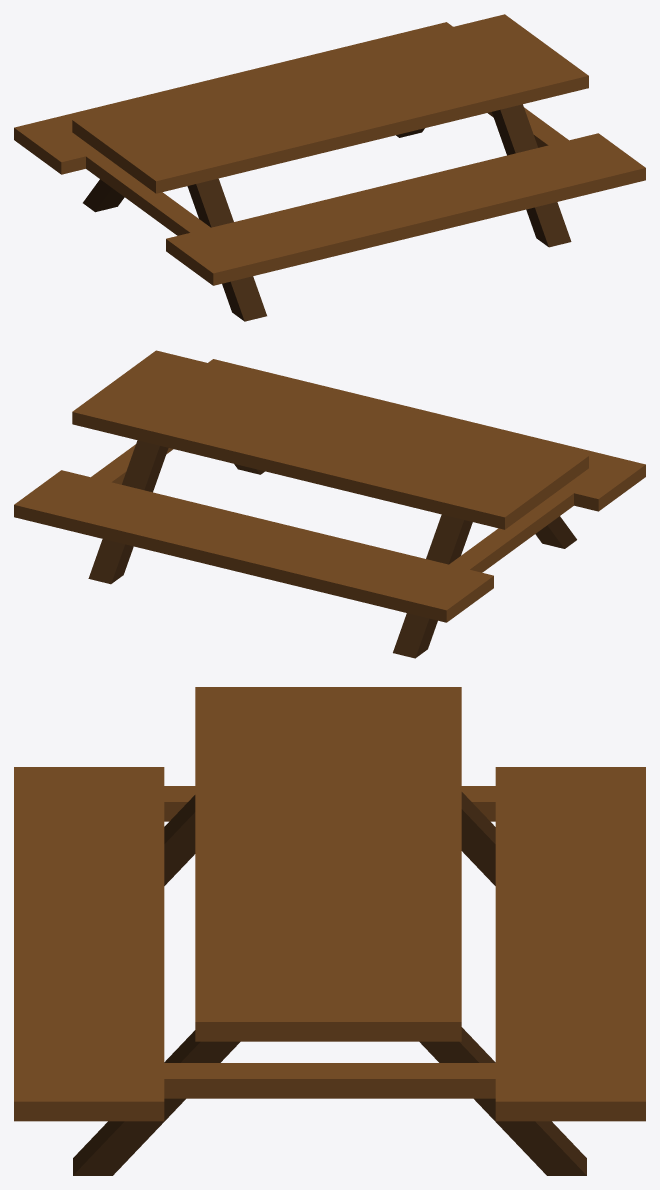
Rendered from PARK_TABLE_F.fbx.
3 renders of one model, top to bottom at view 1: azimuth 30°, elevation 25°; view 2: azimuth 150°, elevation 25°; view 3: azimuth 270°, elevation 25°, orthographic. The views are drawn at different scales.
Visible parts, largest first — view 1: Park_table; view 2: Park_table; view 3: Park_table.
Part boxes in pixels (x1,y1,x2,y2): Park_table: [14, 14, 645, 321]; Park_table: [14, 350, 645, 658]; Park_table: [14, 687, 645, 1175].
Size of the model in its own units: 4893 by 1343 by 3903.
1 material, 1 textured.
